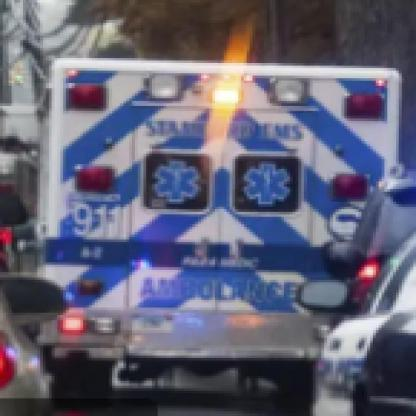priority: (2, 2, 416, 416)
